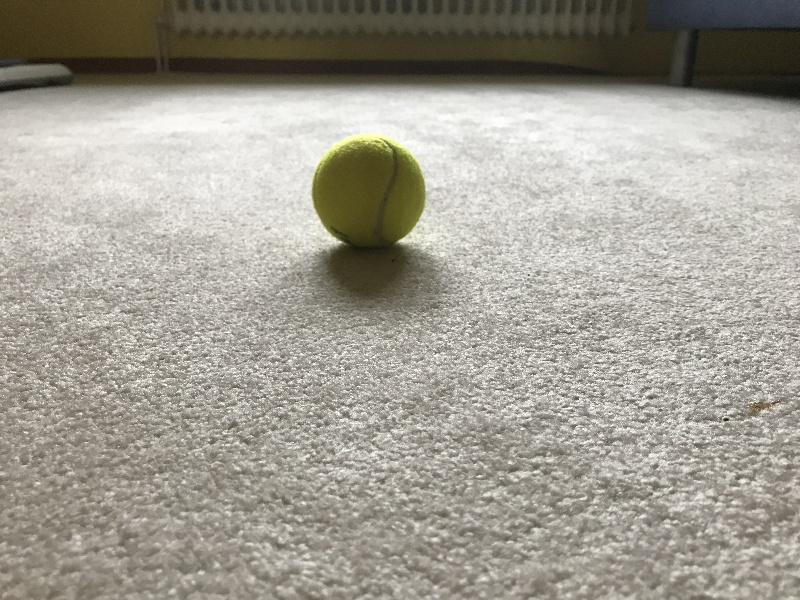Tennisball: (297, 126, 436, 264)
